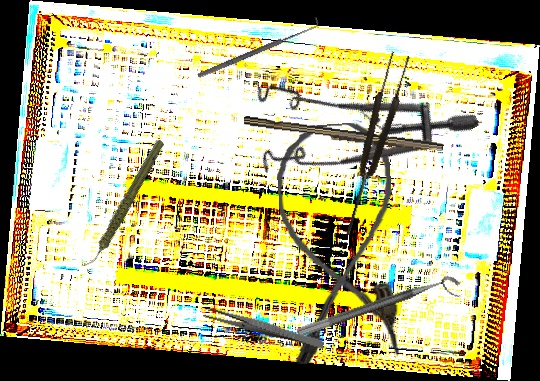Cannula: (273, 120, 404, 365)
Dressing Forceps: (202, 305, 326, 350)
Fixation Ring: (295, 271, 466, 352)
Handpiece: (60, 136, 188, 270)
Hook Surgical: (194, 16, 322, 81)
Scalpel Handle: (242, 115, 445, 156)
Speculum: (227, 2, 481, 227)
Tissue Forceps: (335, 50, 413, 238)
